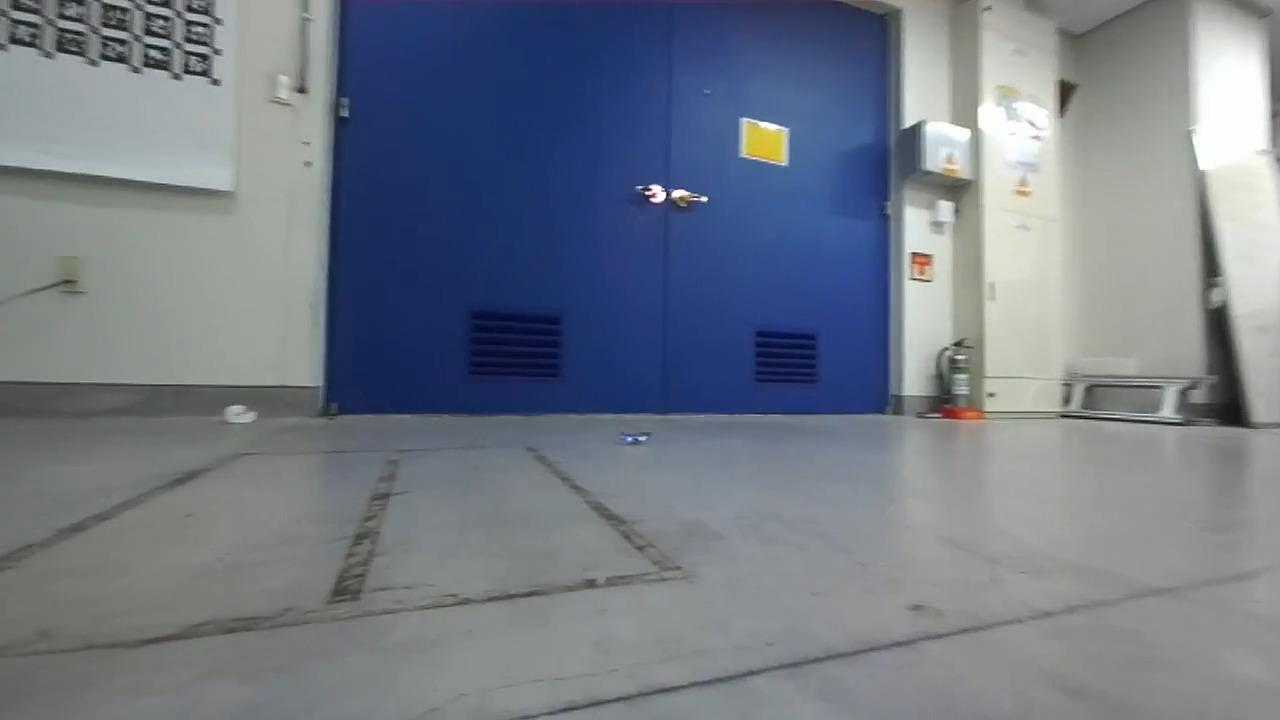crazyflie: (616, 428, 655, 449)
